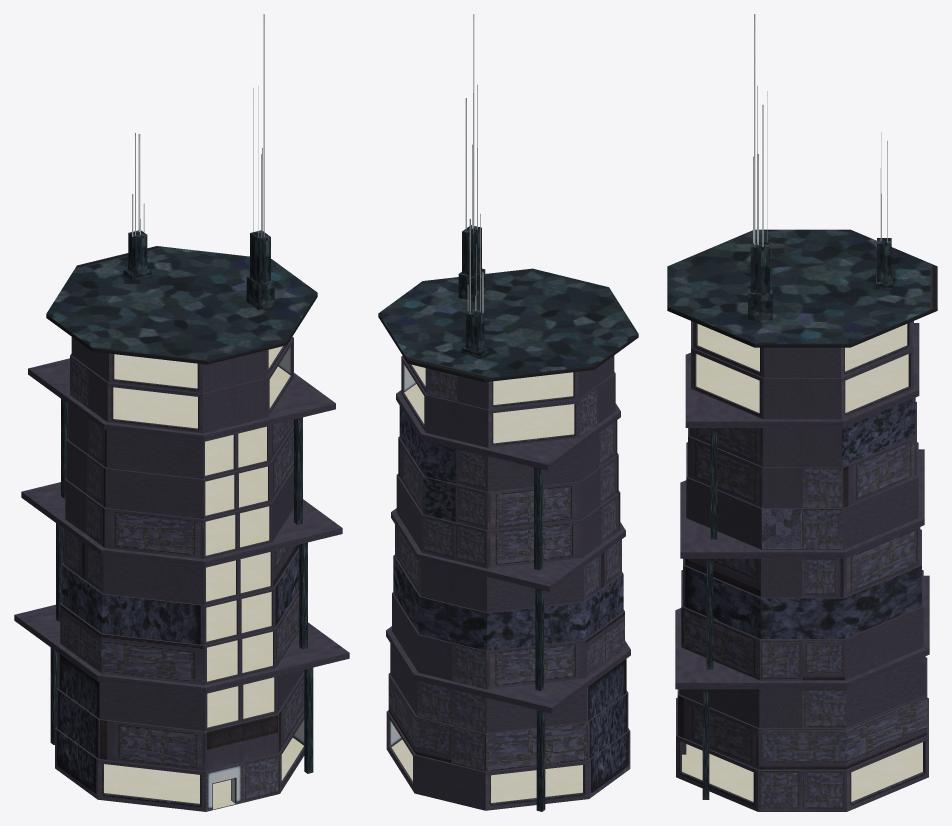
File: oct_11s_body.DAE
3 views of the same model, side by side, from view 1: azimuth 30°, elevation 25°; view 2: azimuth 150°, elevation 25°; view 3: azimuth 270°, elevation 25° (orthographic). The views are drawn at different scales.
Parts seen in each view (by area): view 1: LoweHalf-Pivot; view 2: LoweHalf-Pivot; view 3: LoweHalf-Pivot.
Boxes of the visible parts, x1,y1,x2,y2 form: LoweHalf-Pivot: [14, 14, 349, 811]; LoweHalf-Pivot: [378, 14, 638, 811]; LoweHalf-Pivot: [667, 14, 937, 811].
Size of the model in its own units: 36.44 by 115 by 36.44.
